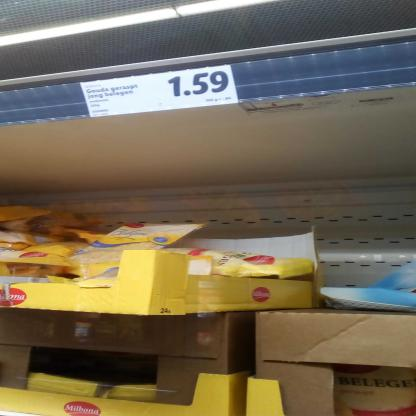prtg: (81, 66, 240, 119)
